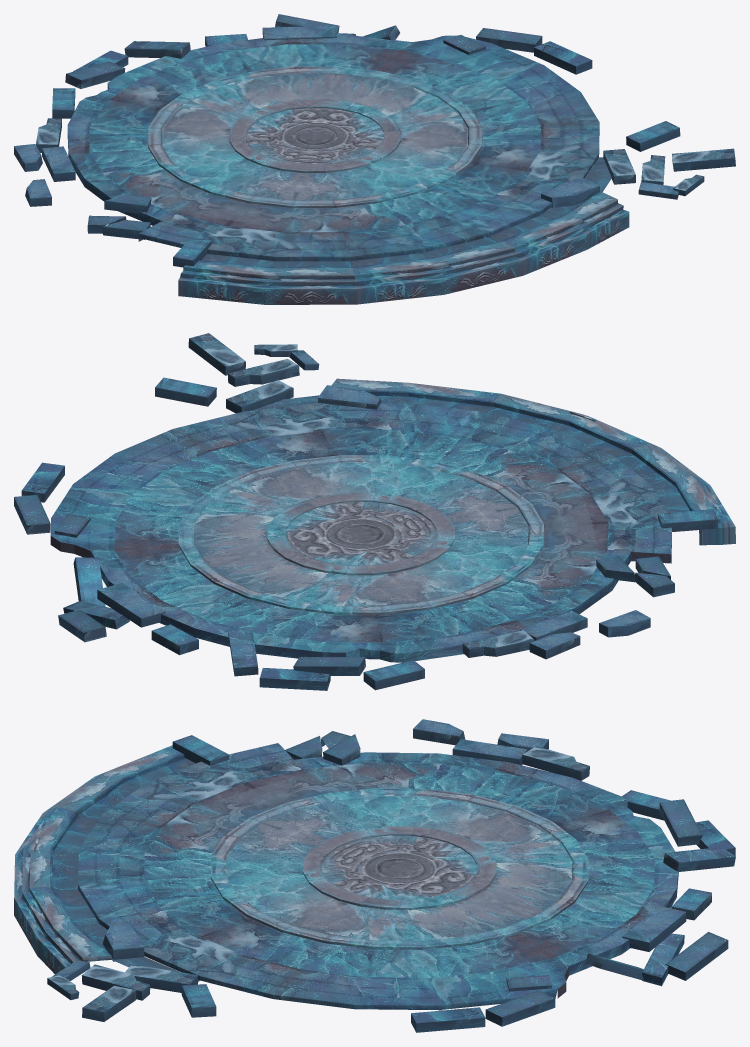
Rendered from xs_taizi_1.FBX.
The picture shows the model from 3 angles, top to bottom: view 1: azimuth 30°, elevation 25°; view 2: azimuth 150°, elevation 25°; view 3: azimuth 270°, elevation 25°; orthographic projection. The views are drawn at different scales.
Visible parts, largest first — view 1: xs_taizi_1; view 2: xs_taizi_1; view 3: xs_taizi_1.
Part boxes in pixels (x1=…): xs_taizi_1: x1=14, y1=14, x2=735, y2=304; xs_taizi_1: x1=14, y1=333, x2=735, y2=690; xs_taizi_1: x1=14, y1=719, x2=735, y2=1032.
Size of the model in its own units: 11861 by 918 by 11641.
